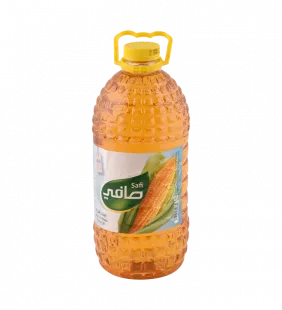SAFI: (83, 19, 197, 285)
